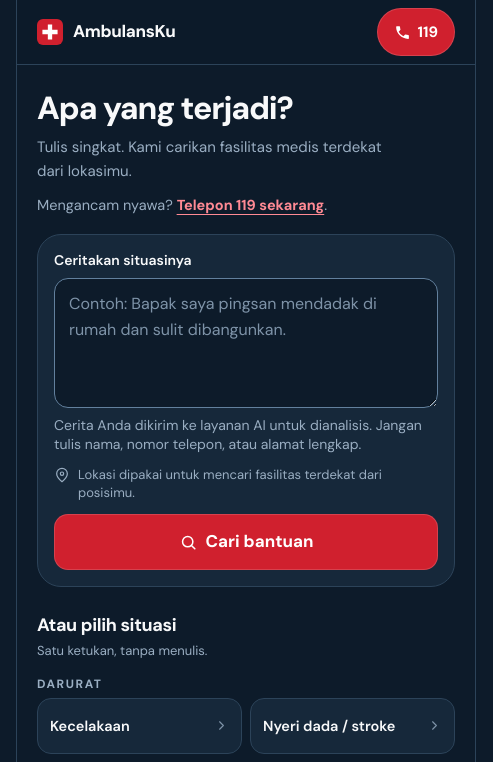
Scenario: home location states › shows the locating state while geolocation is pending
The width and height of the screenshot is (493, 762).
Replace the text in the text box with "pingsan" at x=246, y=343, box [54,278,438,408]
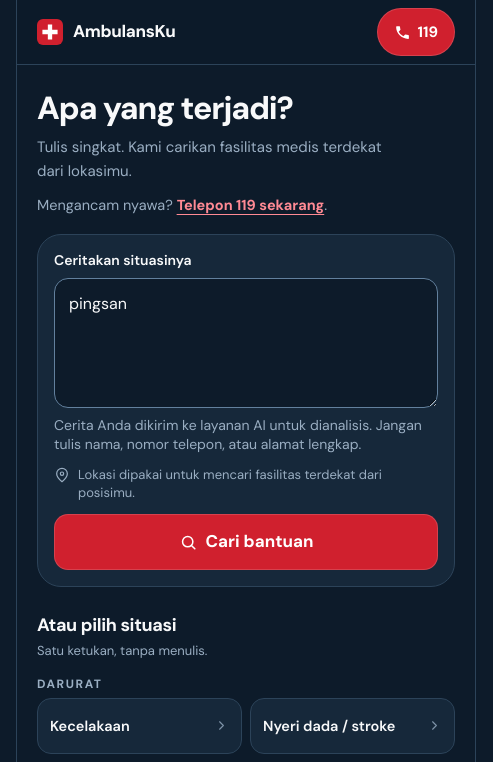
Click the button "Cari bantuan" at x=246, y=542, box [54,514,438,570]
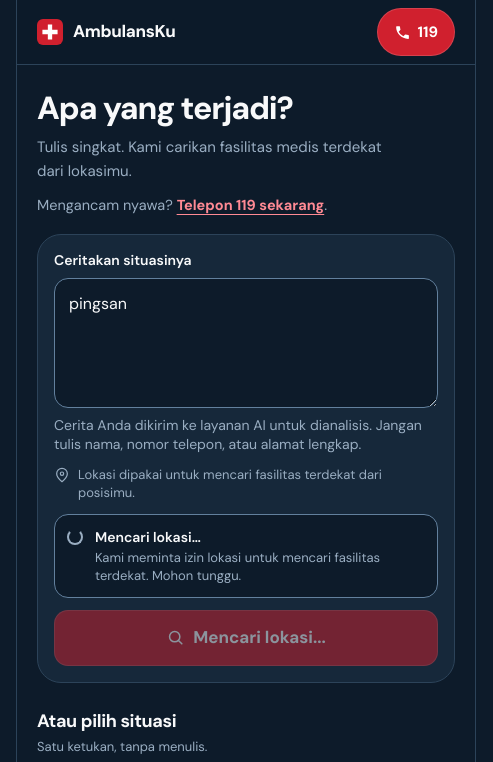
Check: the text "Kami meminta izin lokasi" is shown, box [95,549,380,584]
Check: the button "Mencari lokasi..." is disabled, box [54,610,438,666]
